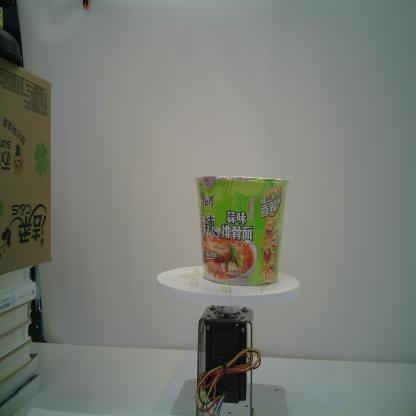Instant Noodles: (191, 173, 293, 287)
